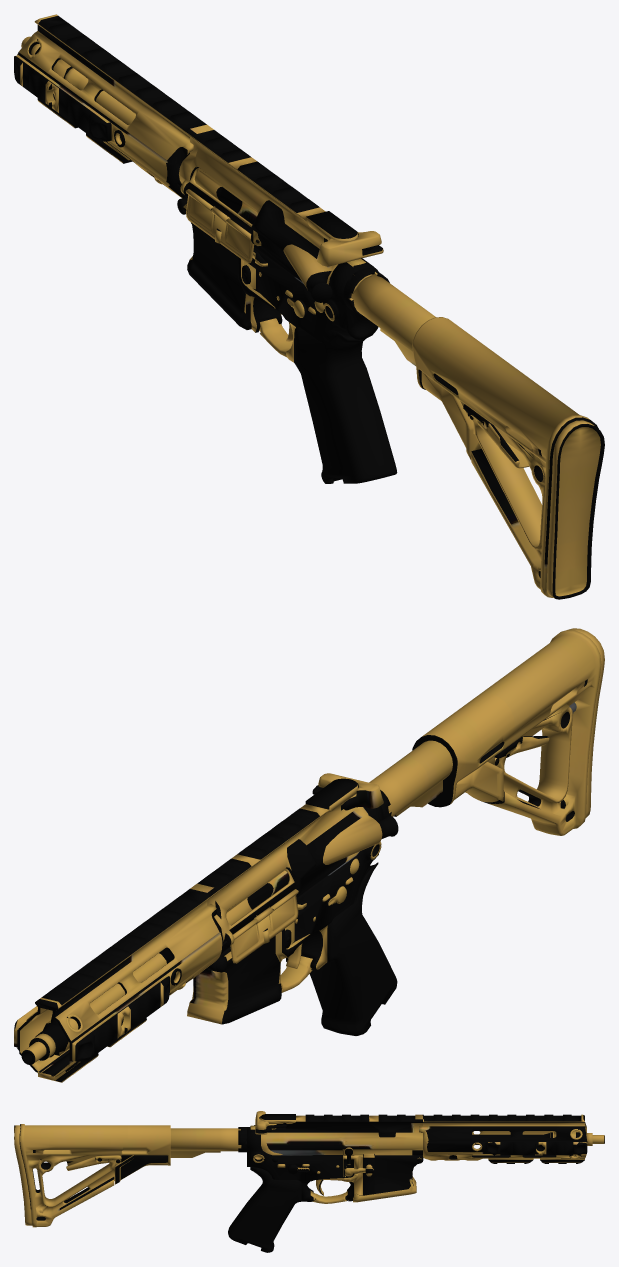
The model's file is R4C-Gold.glb.
3 renders of one model, top to bottom at view 1: azimuth 30°, elevation 25°; view 2: azimuth 150°, elevation 25°; view 3: azimuth 270°, elevation 25°, orthographic. The views are drawn at different scales.
Parts seen in each view (by area): view 1: R4C Gold; view 2: R4C Gold; view 3: R4C Gold.
Part boxes in pixels (x1,y1,x2,y2): R4C Gold: [14, 14, 604, 599]; R4C Gold: [14, 628, 604, 1082]; R4C Gold: [14, 1111, 604, 1252].
Size of the model in its own units: 0.0476 by 0.1397 by 0.5675.
1 material, 1 textured.
